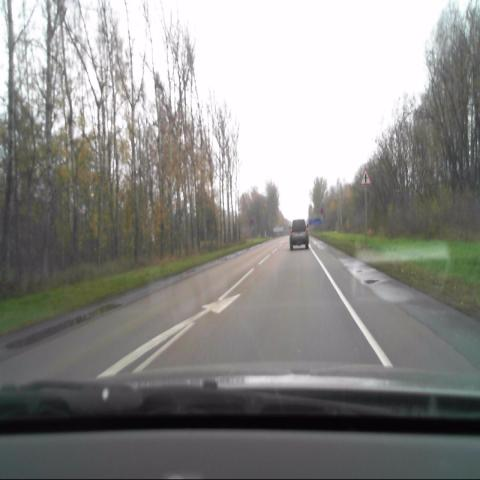2_3: (360, 166, 372, 187)
